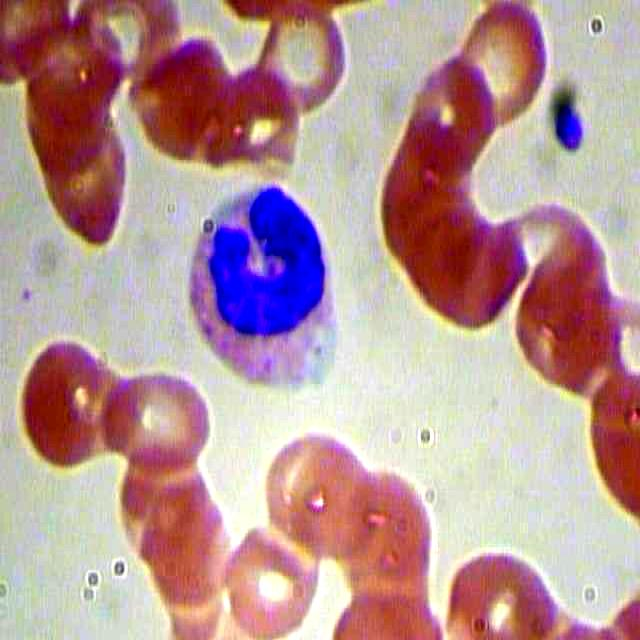Platelets: (546, 110, 584, 158)
RBC: (9, 332, 109, 476), (452, 1, 556, 127), (218, 518, 323, 640), (251, 1, 352, 115), (109, 363, 210, 476)
WBC: (172, 168, 349, 416)
